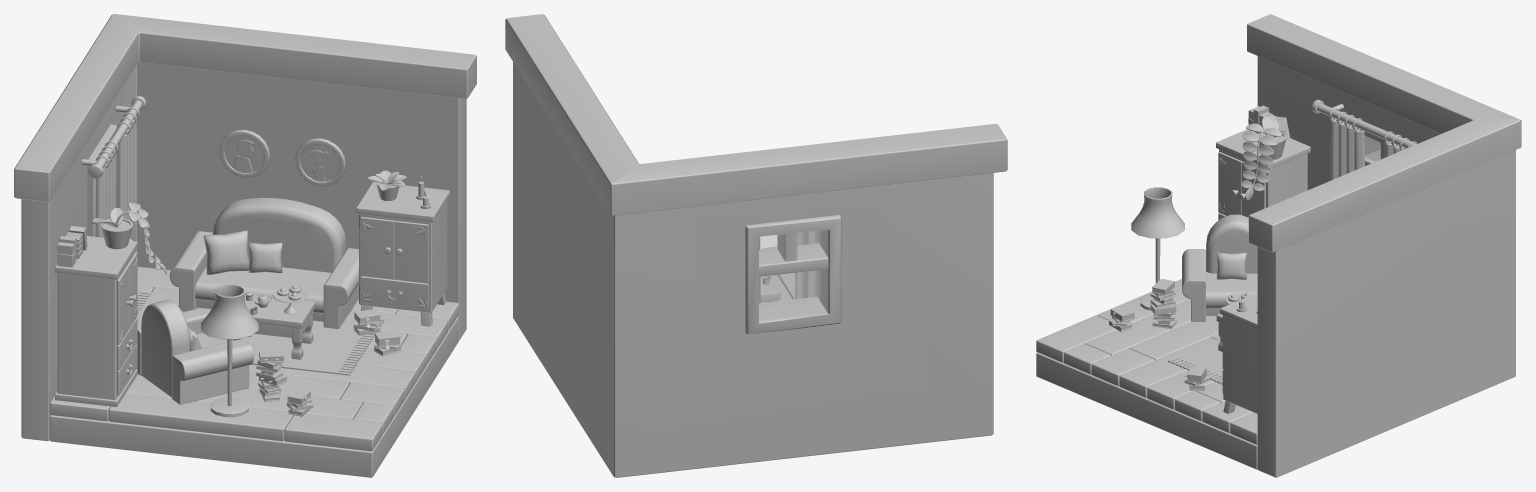
File: Living_Room_20.fbx
3 renders of one model, left to right at view 1: azimuth 30°, elevation 25°; view 2: azimuth 150°, elevation 25°; view 3: azimuth 270°, elevation 25°, orthographic. The views are drawn at different scales.
Visible parts, largest first — view 1: Room_20_Wall_1, Room_20_Floor_2, Room_20_Couch_1, Room_20_Cabinet_2, Room_20_Floor_1, Room_20_Cabinet_1, Room_20_Armchair_2, Room_20_Carpet_1, Room_20_Curtains_1, Room_20_Lamp_1, Room_20_Table_1, Room_20_Painting_1 (+11 smaller); view 2: Room_20_Wall_1, Room_20_Window_1, Room_20_Curtains_1, Room_20_Floor_2; view 3: Room_20_Wall_1, Room_20_Floor_2, Room_20_Floor_1, Room_20_Cabinet_2, Room_20_Armchair_2, Room_20_Cabinet_1, Room_20_Curtains_1, Room_20_Lamp_1, Room_20_Plant_2, Room_20_Carpet_1, Room_20_Books_4, Room_20_Pillow_2 (+3 smaller).
Boxes of the visible parts, x1,y1,x2,y2 form: Room_20_Wall_1: (14, 14, 476, 441); Room_20_Floor_2: (49, 266, 458, 451); Room_20_Couch_1: (169, 197, 358, 328); Room_20_Cabinet_2: (55, 236, 137, 406); Room_20_Floor_1: (49, 317, 458, 477); Room_20_Cabinet_1: (356, 182, 449, 326); Room_20_Armchair_2: (137, 300, 253, 404); Room_20_Carpet_1: (137, 291, 384, 375); Room_20_Curtains_1: (82, 95, 146, 237); Room_20_Lamp_1: (201, 284, 258, 417); Room_20_Table_1: (233, 294, 314, 359); Room_20_Painting_1: (219, 129, 270, 178); Room_20_Wall_1: (505, 14, 1007, 477); Room_20_Window_1: (745, 215, 841, 334); Room_20_Curtains_1: (759, 231, 818, 303); Room_20_Floor_2: (760, 246, 795, 300); Room_20_Wall_1: (1247, 14, 1521, 477); Room_20_Floor_2: (1036, 279, 1257, 444); Room_20_Floor_1: (1036, 352, 1257, 469); Room_20_Cabinet_2: (1216, 129, 1310, 220); Room_20_Armchair_2: (1182, 214, 1257, 321); Room_20_Cabinet_1: (1220, 292, 1257, 413); Room_20_Curtains_1: (1311, 99, 1417, 180); Room_20_Lamp_1: (1131, 187, 1184, 310); Room_20_Plant_2: (1241, 116, 1287, 200); Room_20_Carpet_1: (1168, 338, 1223, 384); Room_20_Books_4: (1150, 278, 1176, 329); Room_20_Pillow_2: (1216, 252, 1246, 279).
Size of the model in its own units: 734 by 417 by 713.
